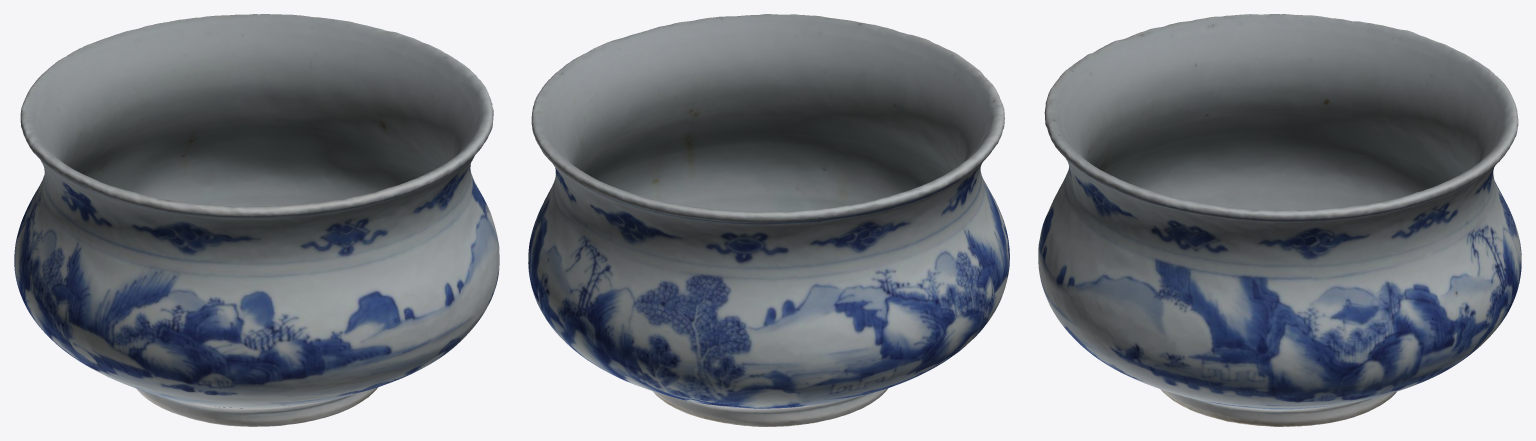
File: incense-burner-f1978-150k-2048-medium-100k-2048_std_draco.glb
3 views of the same model, side by side, from view 1: azimuth 30°, elevation 25°; view 2: azimuth 150°, elevation 25°; view 3: azimuth 270°, elevation 25° (orthographic).
Size of the model in its own units: 0.2343 by 0.1423 by 0.2335.
1 material, 1 textured.
